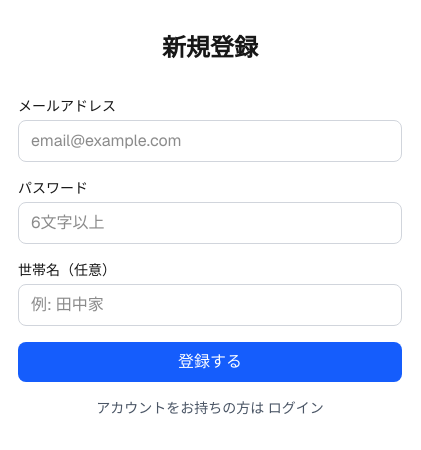
it: SignupPage › displays error when rpc fails
This screenshot has width=421, height=450.
Type "test@example.com" into the field labelled "メールアドレス".
click(210, 141); type("test@example.com")  # box [18,120,402,162]
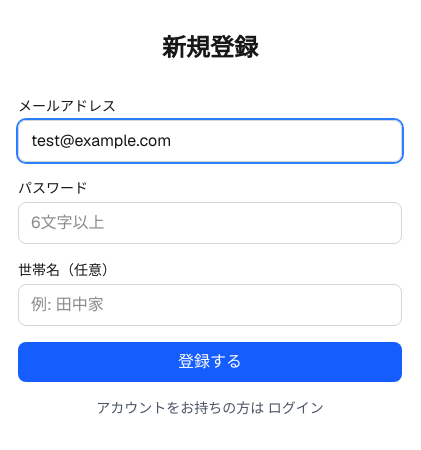
Type "password123" into the password field labelled "パスワード".
click(210, 223); type("password123")  # box [18,202,402,244]
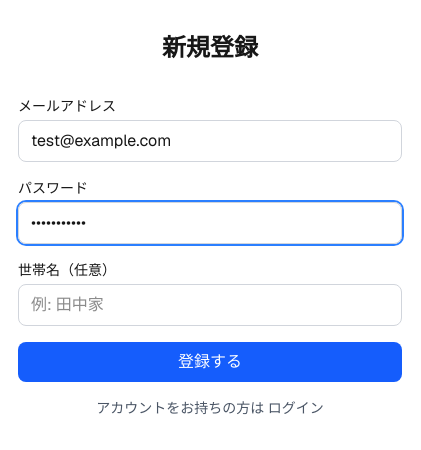
Click the button "登録する".
click(210, 362)  # box [18,342,402,382]
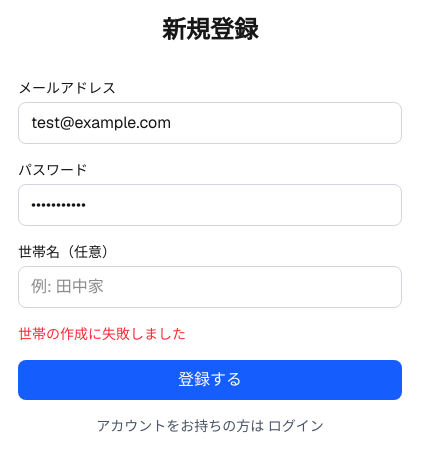
Check: the text "世帯の作成に失敗しました" is shown, box [18,325,186,343]
